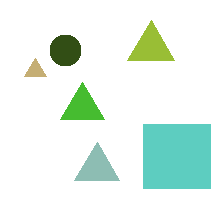circle: (50, 35, 80, 65)
rectangle: (143, 124, 210, 188)
triangle: (127, 20, 174, 60), (74, 142, 119, 180), (60, 82, 104, 119), (24, 58, 46, 76)
